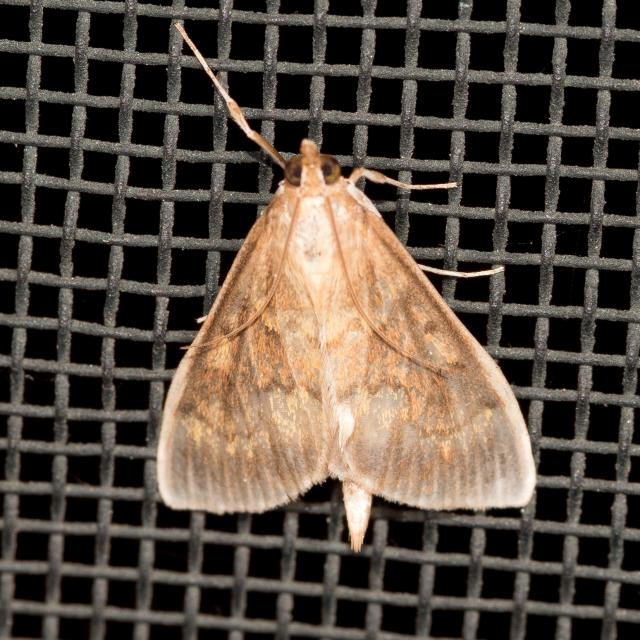cornborer-Adult-: (123, 20, 566, 580)
